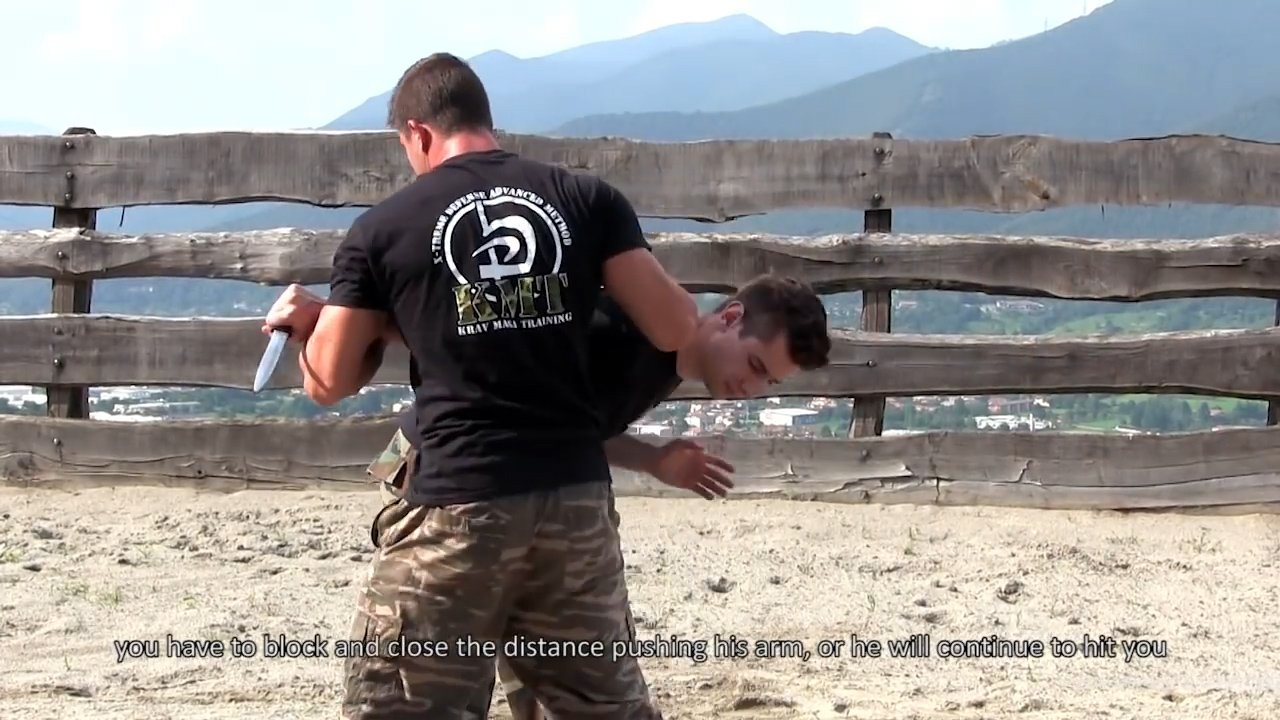knife: (243, 279, 312, 406)
